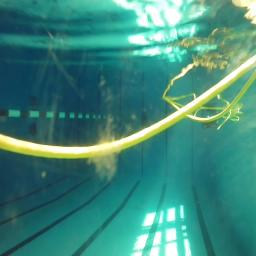Full: (202, 112, 219, 128)
